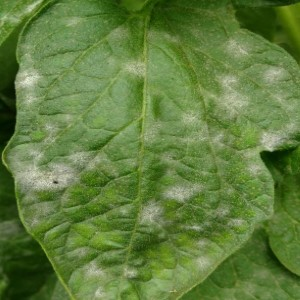oidio: (20, 153, 73, 191), (165, 184, 202, 203), (224, 93, 246, 121), (139, 198, 160, 226), (264, 66, 286, 88), (83, 263, 105, 283), (260, 130, 281, 149), (127, 60, 148, 78), (18, 71, 40, 87), (219, 73, 239, 90), (230, 40, 247, 57), (196, 253, 212, 271), (71, 151, 90, 164), (248, 162, 265, 176), (124, 265, 137, 278), (184, 112, 196, 125)
